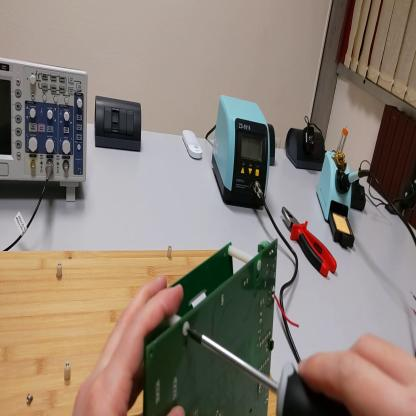electric screwdriver battery: (350, 181, 368, 213)
hand: (74, 277, 186, 415), (299, 337, 416, 415)
low voltage board: (145, 237, 279, 415)
oscilloscope: (2, 61, 89, 203)
pliers: (282, 209, 338, 277)
screwdriver-: (187, 328, 350, 415)
socket: (285, 128, 325, 173), (269, 125, 276, 169)
welder base: (317, 128, 357, 248)
welder probe tip: (341, 164, 375, 192)
welder station: (212, 95, 270, 209)
working area: (2, 251, 278, 415)
